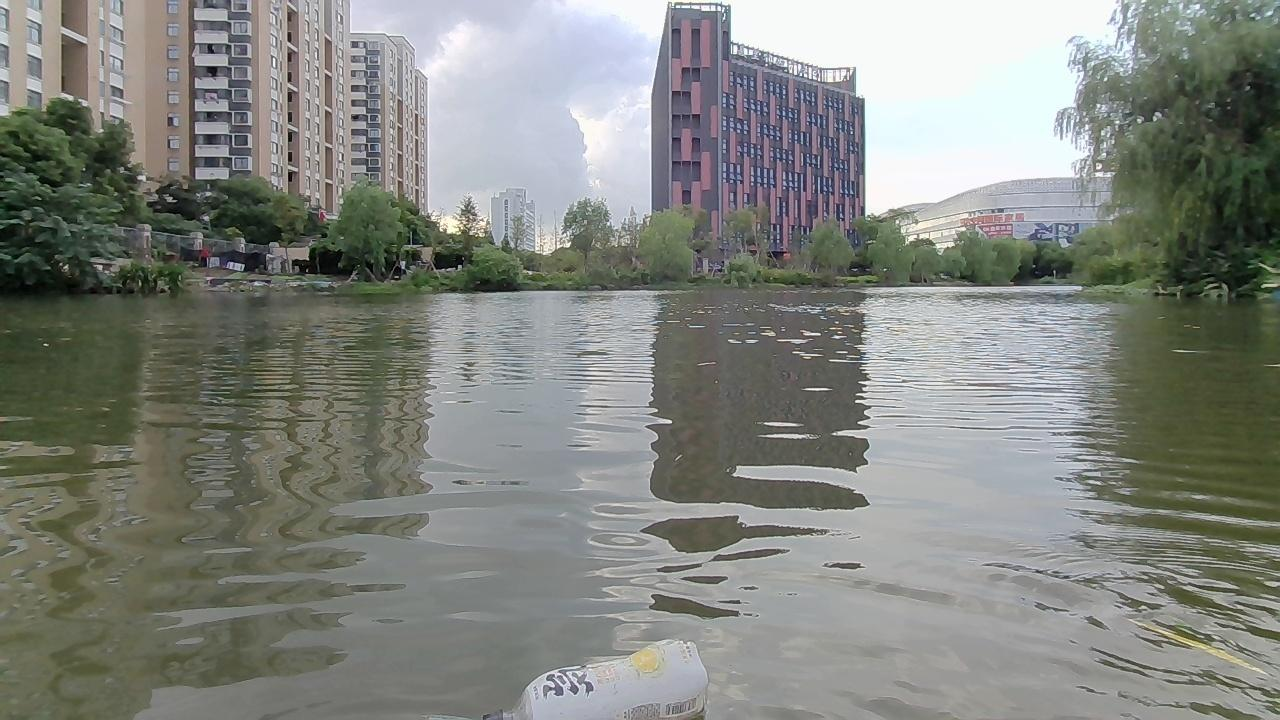bottle: (496, 637, 717, 714)
